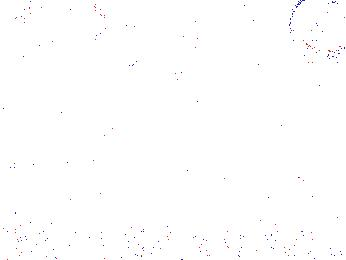moon jellyfish: (141, 1, 199, 82), (36, 41, 95, 109), (21, 1, 108, 44), (290, 1, 346, 62), (284, 35, 345, 89), (1, 39, 36, 108)
